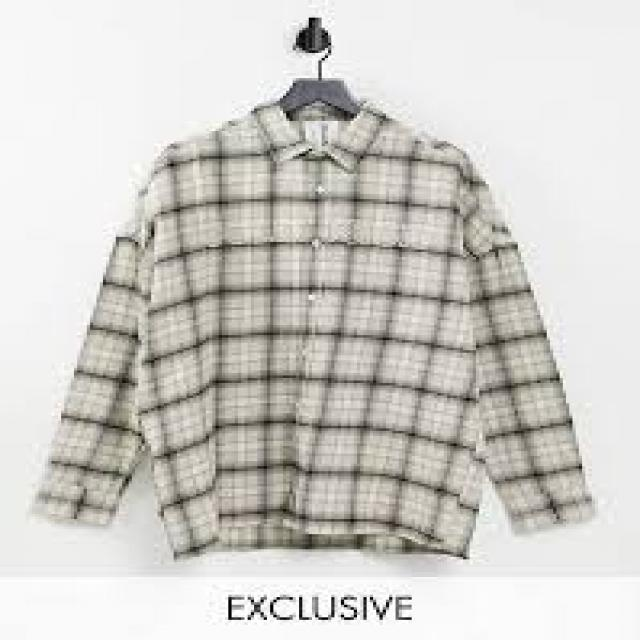plaid: (36, 105, 596, 566)
